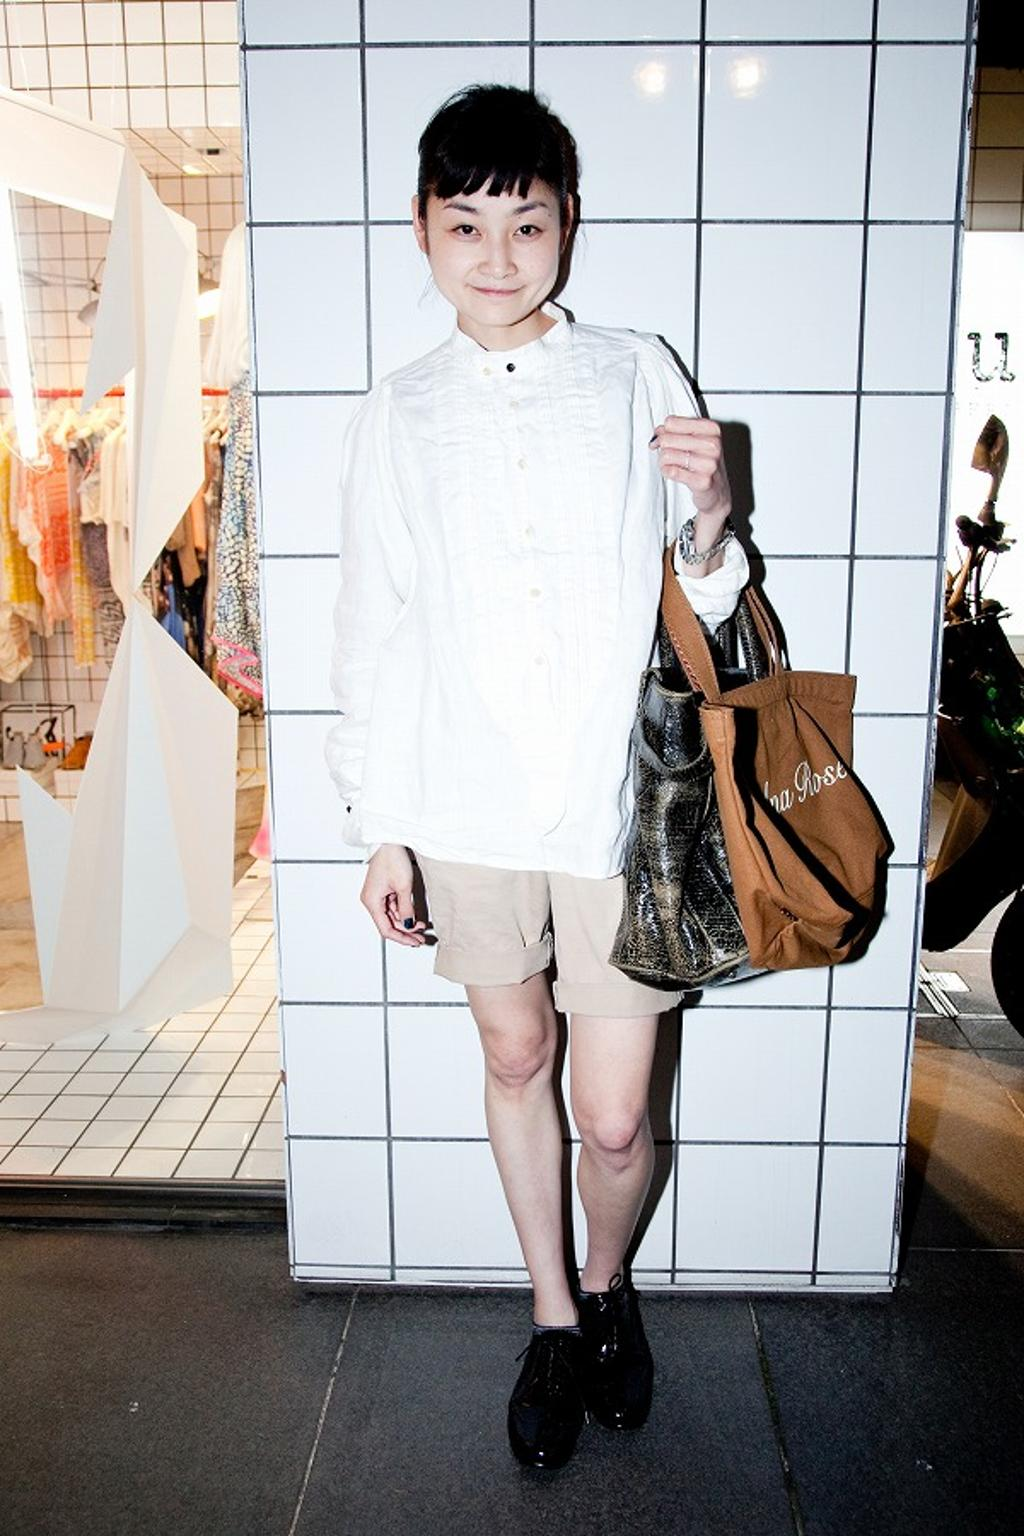face: (441, 171, 555, 336)
